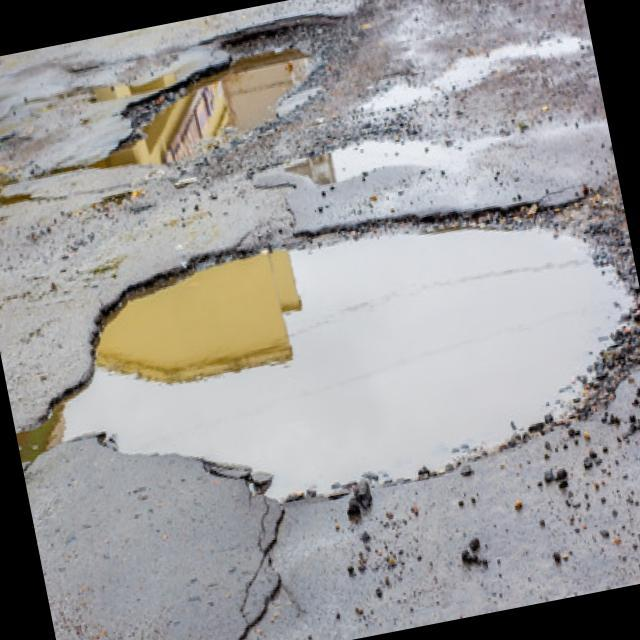Pothole: (0, 163, 640, 556), (56, 2, 388, 172), (288, 109, 476, 211)
